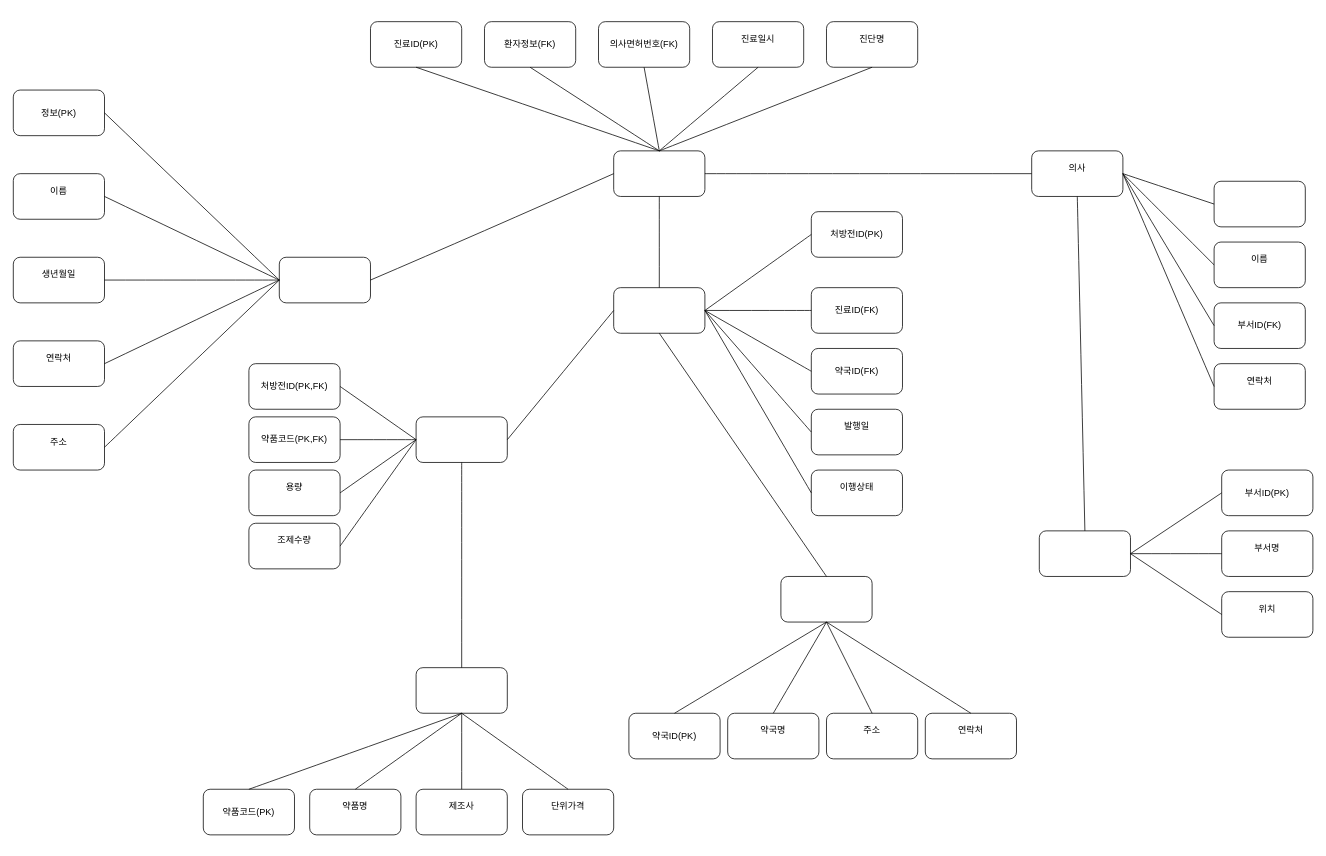
Image size: 1326x856. Some labels were removed from this diagram. Each missing label, with the centre of its shape:
"면허번호(PK)" goes at (x=1259, y=203).
"부서" goes at (x=1084, y=553).
"약국" goes at (x=826, y=599).
"약품" goes at (x=461, y=690).
"진료" goes at (x=659, y=173).
"처방상세" goes at (x=461, y=439).
"처방전" goes at (x=659, y=310).
"환자" goes at (x=324, y=279).
